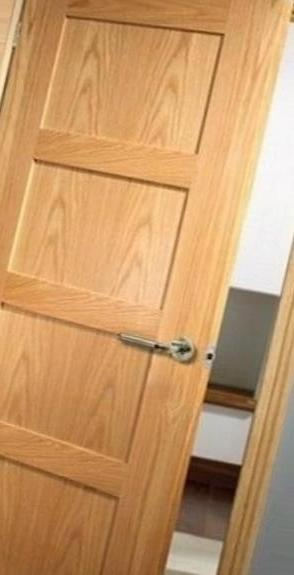door: (0, 2, 288, 575)
